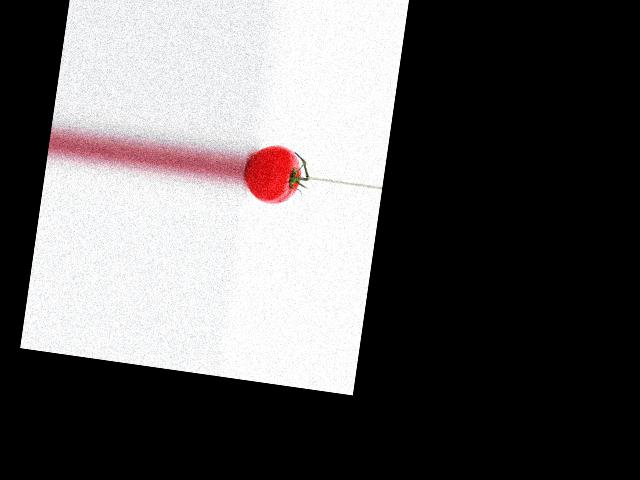tomato: (241, 142, 304, 208)
